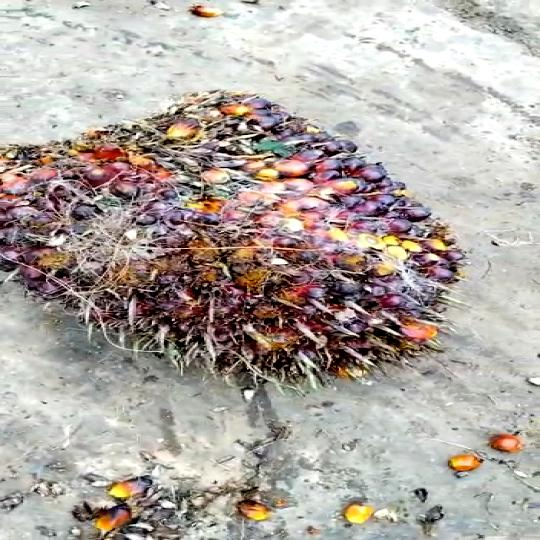masak: (0, 66, 454, 402)
